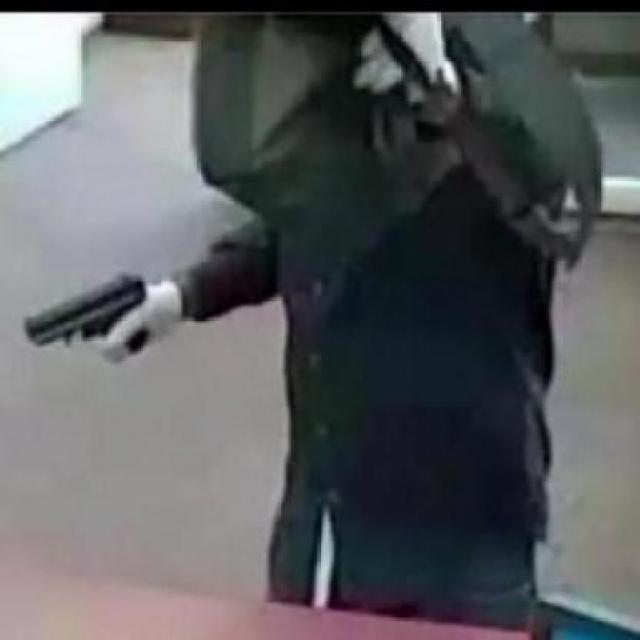gun: (18, 266, 156, 360)
